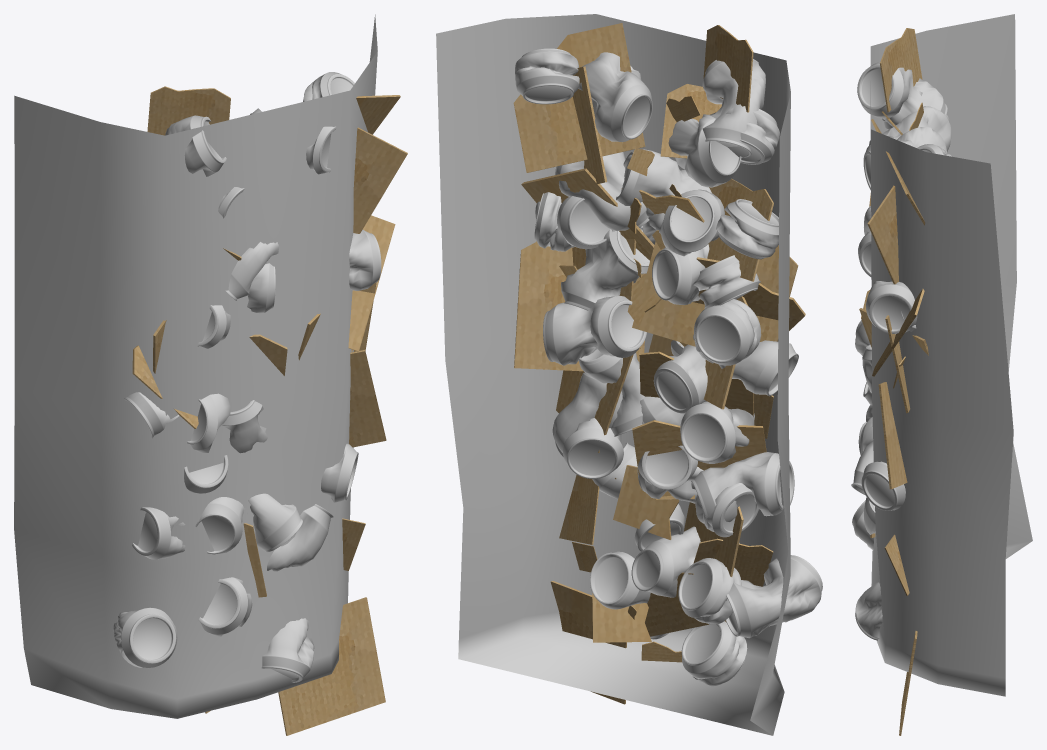
File: Meta_SD.fbx
3 renders of one model, left to right at view 1: azimuth 30°, elevation 25°; view 2: azimuth 150°, elevation 25°; view 3: azimuth 270°, elevation 25°, orthographic. The views are drawn at different scales.
Parts seen in each view (by area): view 1: LINK_BinBags|BinBagWall_L_LINK_BinBagsWalls.blend|Dupli|, LINK_CardboardPieces|CardboardPieces_geo_SD_L_LINK_Cardboard, LINK_CardboardPieces.040|CardboardPieces_geo_SD_L_LINK_Cardb, LINK_CrushedCan.058|CrushedCan.001_L_LINK_CrushedCan.blend|D, LINK_CardboardPieces.039|CardboardPieces.001_geo_SD_L_LINK_C, LINK_CardboardPieces.012|CardboardPieces_geo_SD_L_LINK_Cardb, LINK_CrushedCan.003|CrushedCan.003_L_LINK_CrushedCan.blend|D, LINK_CrushedCan.010|CrushedCan.003_L_LINK_CrushedCan.blend|D, LINK_CrushedCan.051|CrushedCan.003_L_LINK_CrushedCan.blend|D, LINK_CrushedCan.052|CrushedCan.003_L_LINK_CrushedCan.blend|D, LINK_CrushedCan.016|CrushedCan.002_L_LINK_CrushedCan.blend|D, LINK_CardboardPieces.032|CardboardPieces_geo_SD_L_LINK_Cardb (+18 smaller); view 2: LINK_BinBags|BinBagWall_L_LINK_BinBagsWalls.blend|Dupli|, LINK_CardboardPieces.036|CardboardPieces_geo_SD_L_LINK_Cardb, LINK_CrushedCan.001|CrushedCan.001_L_LINK_CrushedCan.blend|D, LINK_CardboardPieces.016|CardboardPieces_geo_SD_L_LINK_Cardb, LINK_CrushedCan.058|CrushedCan.001_L_LINK_CrushedCan.blend|D, LINK_CrushedCan.040|CrushedCan.002_L_LINK_CrushedCan.blend|D, LINK_CrushedCan.057|CrushedCan.001_L_LINK_CrushedCan.blend|D, LINK_CardboardPieces.027|CardboardPieces.001_geo_SD_L_LINK_C, LINK_CrushedCan.002|CrushedCan.002_L_LINK_CrushedCan.blend|D, LINK_CrushedCan.053|CrushedCan.001_L_LINK_CrushedCan.blend|D, LINK_CrushedCan.025|CrushedCan_L_LINK_CrushedCan.blend|Dupli, LINK_CrushedCan.056|CrushedCan.001_L_LINK_CrushedCan.blend|D (+46 smaller); view 3: LINK_BinBags|BinBagWall_L_LINK_BinBagsWalls.blend|Dupli|, LINK_CrushedCan.053|CrushedCan.001_L_LINK_CrushedCan.blend|D, LINK_CrushedCan.008|CrushedCan.001_L_LINK_CrushedCan.blend|D, LINK_CardboardPieces.040|CardboardPieces_geo_SD_L_LINK_Cardb, LINK_CardboardPieces.039|CardboardPieces.001_geo_SD_L_LINK_C, LINK_CardboardPieces.012|CardboardPieces_geo_SD_L_LINK_Cardb, LINK_CrushedCan.005|CrushedCan.001_L_LINK_CrushedCan.blend|D, LINK_CrushedCan.003|CrushedCan.003_L_LINK_CrushedCan.blend|D, LINK_CrushedCan.020|CrushedCan.002_L_LINK_CrushedCan.blend|D, LINK_CrushedCan.040|CrushedCan.002_L_LINK_CrushedCan.blend|D, LINK_CardboardPieces.032|CardboardPieces_geo_SD_L_LINK_Cardb, LINK_CardboardPieces.024|CardboardPieces_geo_SD_L_LINK_Cardb (+11 smaller).
Boxes of the visible parts, box(x1,y1,x2,y2) form: LINK_BinBags|BinBagWall_L_LINK_BinBagsWalls.blend|Dupli|: box(14, 14, 377, 718); LINK_CardboardPieces|CardboardPieces_geo_SD_L_LINK_Cardboard: box(278, 597, 385, 735); LINK_CardboardPieces.040|CardboardPieces_geo_SD_L_LINK_Cardb: box(353, 127, 407, 233); LINK_CrushedCan.058|CrushedCan.001_L_LINK_CrushedCan.blend|D: box(113, 607, 177, 667); LINK_CardboardPieces.039|CardboardPieces.001_geo_SD_L_LINK_C: box(147, 86, 230, 135); LINK_CardboardPieces.012|CardboardPieces_geo_SD_L_LINK_Cardb: box(349, 350, 386, 447); LINK_CrushedCan.003|CrushedCan.003_L_LINK_CrushedCan.blend|D: box(261, 618, 314, 682); LINK_CrushedCan.010|CrushedCan.003_L_LINK_CrushedCan.blend|D: box(267, 504, 333, 571); LINK_CrushedCan.051|CrushedCan.003_L_LINK_CrushedCan.blend|D: box(248, 493, 302, 552); LINK_CrushedCan.052|CrushedCan.003_L_LINK_CrushedCan.blend|D: box(198, 577, 252, 636); LINK_CrushedCan.016|CrushedCan.002_L_LINK_CrushedCan.blend|D: box(195, 497, 247, 554); LINK_CardboardPieces.032|CardboardPieces_geo_SD_L_LINK_Cardb: box(348, 215, 395, 351); LINK_BinBags|BinBagWall_L_LINK_BinBagsWalls.blend|Dupli|: box(436, 14, 790, 735); LINK_CardboardPieces.036|CardboardPieces_geo_SD_L_LINK_Cardb: box(513, 23, 645, 172); LINK_CrushedCan.001|CrushedCan.001_L_LINK_CrushedCan.blend|D: box(543, 296, 646, 365); LINK_CardboardPieces.016|CardboardPieces_geo_SD_L_LINK_Cardb: box(514, 241, 644, 371); LINK_CrushedCan.058|CrushedCan.001_L_LINK_CrushedCan.blend|D: box(725, 555, 822, 638); LINK_CrushedCan.040|CrushedCan.002_L_LINK_CrushedCan.blend|D: box(578, 52, 652, 142); LINK_CrushedCan.057|CrushedCan.001_L_LINK_CrushedCan.blend|D: box(691, 452, 794, 528); LINK_CardboardPieces.027|CardboardPieces.001_geo_SD_L_LINK_C: box(632, 241, 798, 346); LINK_CrushedCan.002|CrushedCan.002_L_LINK_CrushedCan.blend|D: box(561, 226, 649, 310); LINK_CrushedCan.053|CrushedCan.001_L_LINK_CrushedCan.blend|D: box(702, 59, 765, 157); LINK_CrushedCan.025|CrushedCan_L_LINK_CrushedCan.blend|Dupli: box(694, 299, 761, 365); LINK_CrushedCan.056|CrushedCan.001_L_LINK_CrushedCan.blend|D: box(680, 401, 754, 463); LINK_BinBags|BinBagWall_L_LINK_BinBagsWalls.blend|Dupli|: box(870, 14, 1032, 696); LINK_CrushedCan.053|CrushedCan.001_L_LINK_CrushedCan.blend|D: box(857, 62, 947, 126); LINK_CrushedCan.008|CrushedCan.001_L_LINK_CrushedCan.blend|D: box(866, 281, 917, 334); LINK_CardboardPieces.040|CardboardPieces_geo_SD_L_LINK_Cardb: box(867, 185, 898, 284); LINK_CardboardPieces.039|CardboardPieces.001_geo_SD_L_LINK_C: box(880, 28, 922, 112); LINK_CardboardPieces.012|CardboardPieces_geo_SD_L_LINK_Cardb: box(878, 382, 907, 489); LINK_CrushedCan.005|CrushedCan.001_L_LINK_CrushedCan.blend|D: box(861, 461, 905, 510); LINK_CrushedCan.003|CrushedCan.003_L_LINK_CrushedCan.blend|D: box(855, 582, 882, 640); LINK_CrushedCan.020|CrushedCan.002_L_LINK_CrushedCan.blend|D: box(869, 106, 951, 151); LINK_CrushedCan.040|CrushedCan.002_L_LINK_CrushedCan.blend|D: box(863, 127, 946, 190); LINK_CardboardPieces.032|CardboardPieces_geo_SD_L_LINK_Cardb: box(872, 289, 924, 376); LINK_CardboardPieces.024|CardboardPieces_geo_SD_L_LINK_Cardb: box(885, 315, 910, 413).
Bounding box in the file's own units: 2513 × 4604 × 1221.
